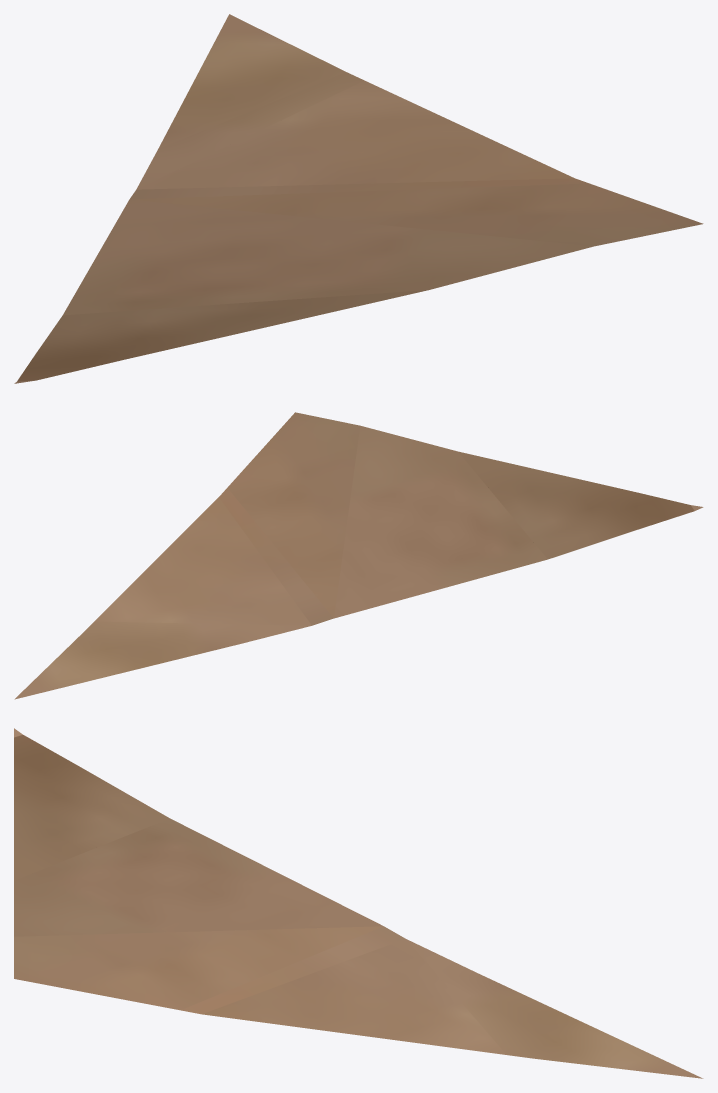
3 renders of one model, top to bottom at view 1: azimuth 30°, elevation 25°; view 2: azimuth 150°, elevation 25°; view 3: azimuth 270°, elevation 25°, orthographic. The views are drawn at different scales.
Bounding box in the file's own units: 0.3895 × 0.0787 × 0.4641.
Materials: 1 (1 with a texture image).
